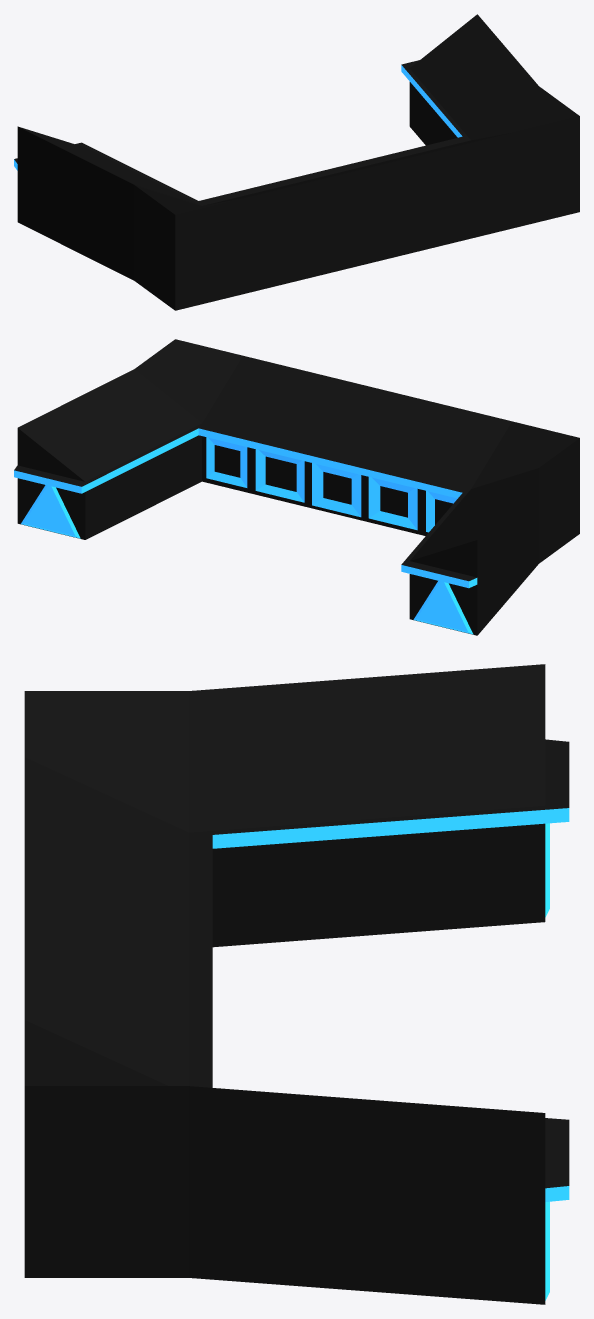
Rendered from desk.gltf.
The picture shows the model from 3 angles, top to bottom: view 1: azimuth 30°, elevation 25°; view 2: azimuth 150°, elevation 25°; view 3: azimuth 270°, elevation 25°; orthographic projection. The views are drawn at different scales.
Parts seen in each view (by area): view 1: Cube.010; view 2: Cube.010, Circle, Circle.001; view 3: Cube.010.
Boxes of the visible parts, box(x1,y1,x2,y2) form: Cube.010: box(14, 14, 579, 310); Cube.010: box(14, 339, 579, 635); Circle: box(21, 485, 80, 538); Circle.001: box(413, 581, 473, 634); Cube.010: box(24, 664, 569, 1304).
Size of the model in its own units: 4.61 by 0.9194 by 2.37.
